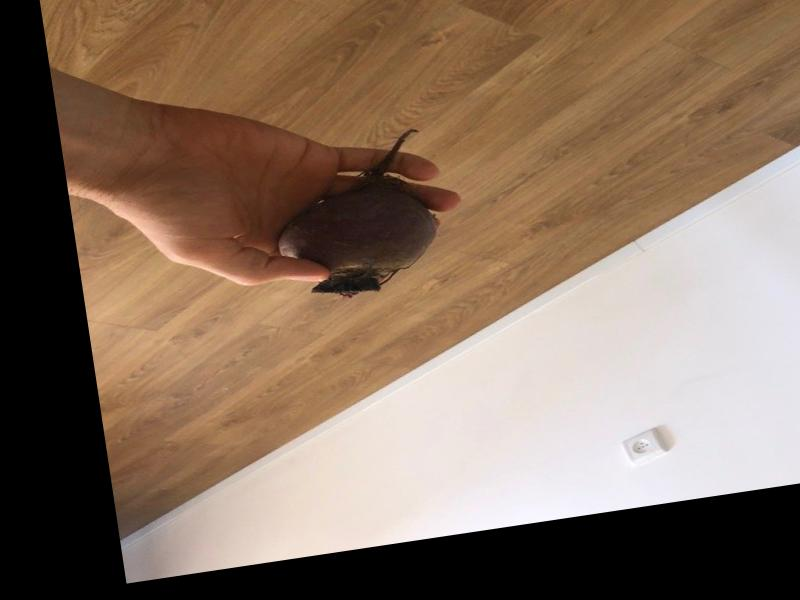Beet: (264, 126, 448, 303)
